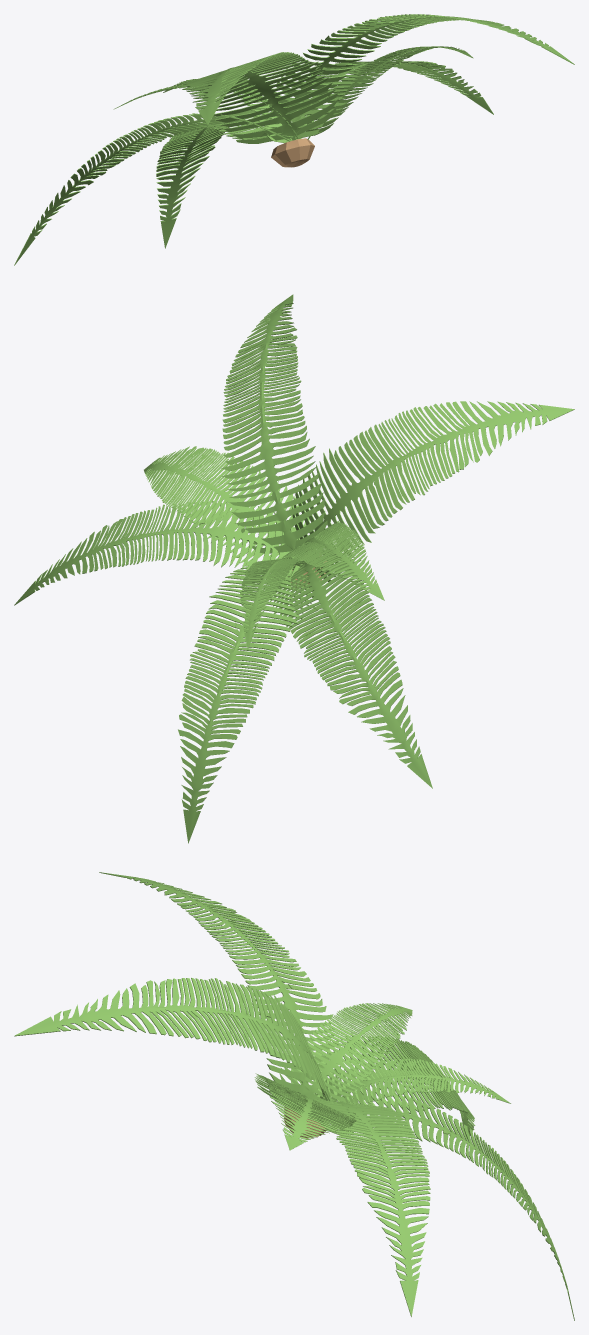
Rendered from Krzak1.fbx.
3 views of the same model, one above another, from view 1: azimuth 30°, elevation 25°; view 2: azimuth 150°, elevation 25°; view 3: azimuth 270°, elevation 25° (orthographic). The views are drawn at different scales.
Parts seen in each view (by area): view 1: Krzak_1; view 2: Krzak_1; view 3: Krzak_1.
Part boxes in pixels (left/top/right/bottom): Krzak_1: left=14, top=14, right=574, bottom=265; Krzak_1: left=14, top=294, right=574, bottom=843; Krzak_1: left=14, top=872, right=574, bottom=1320.
Size of the model in its own units: 525 by 393 by 518.
